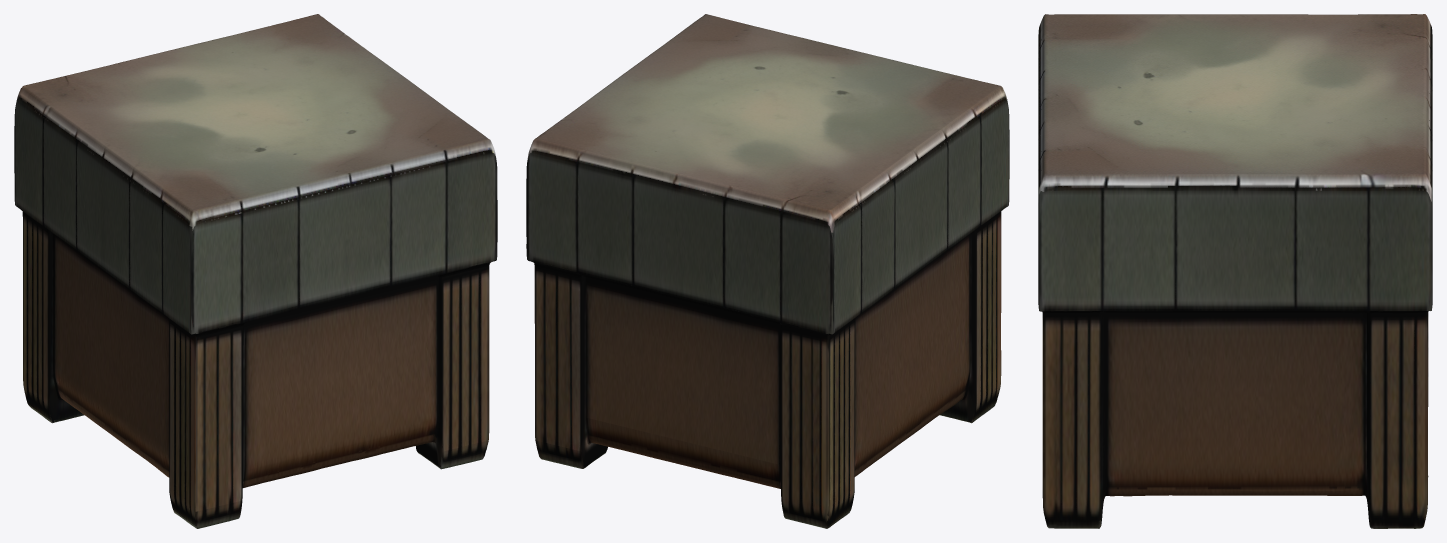
Rendered from floor-timber.glb.
3 renders of one model, left to right at view 1: azimuth 30°, elevation 25°; view 2: azimuth 150°, elevation 25°; view 3: azimuth 270°, elevation 25°, orthographic. The views are drawn at different scales.
Parts seen in each view (by area): view 1: tmpw4_w3lec.ply; view 2: tmpw4_w3lec.ply; view 3: tmpw4_w3lec.ply.
Boxes of the visible parts, box(x1,y1,x2,y2) form: tmpw4_w3lec.ply: box(14, 14, 497, 528); tmpw4_w3lec.ply: box(526, 14, 1009, 528); tmpw4_w3lec.ply: box(1038, 14, 1432, 528).
Size of the model in its own units: 1 by 1 by 1.
Materials: 1 (1 with a texture image).
